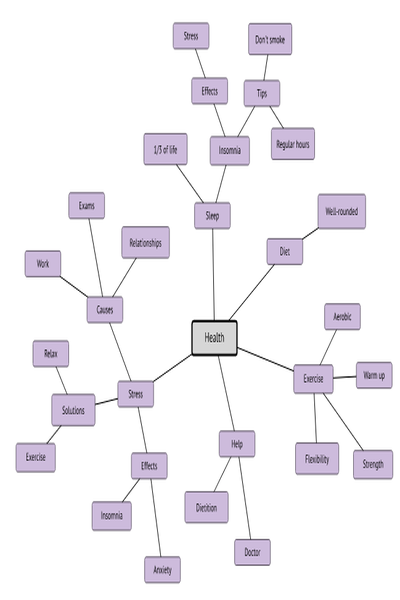arrow: (229, 264, 281, 320), (323, 392, 363, 447), (216, 355, 237, 430), (237, 344, 294, 371), (237, 455, 253, 538), (88, 219, 105, 296), (148, 477, 164, 555), (110, 323, 132, 379), (153, 355, 191, 385), (177, 163, 205, 202), (113, 258, 137, 298), (211, 456, 233, 493), (209, 228, 217, 321), (136, 406, 151, 454), (320, 329, 339, 365), (310, 392, 322, 444), (236, 106, 255, 136), (63, 278, 88, 298), (215, 165, 228, 203), (215, 104, 230, 134), (122, 479, 140, 501), (196, 48, 208, 78), (269, 106, 284, 128), (56, 367, 68, 393), (262, 55, 272, 81), (47, 425, 61, 443), (301, 228, 318, 242), (334, 371, 356, 381), (96, 398, 119, 407)
idea: (191, 319, 237, 357), (318, 193, 365, 229), (121, 226, 170, 259), (295, 442, 340, 476), (269, 126, 314, 159), (184, 490, 228, 523), (143, 133, 187, 165), (248, 23, 292, 55), (51, 393, 93, 426), (15, 442, 57, 472), (292, 363, 332, 394), (352, 449, 393, 479), (91, 501, 132, 531), (209, 135, 248, 166), (118, 379, 155, 409), (68, 191, 105, 220), (218, 430, 256, 458), (324, 303, 361, 331), (234, 538, 271, 566), (191, 77, 228, 105), (265, 238, 303, 265), (86, 296, 124, 323), (24, 250, 62, 277), (194, 201, 232, 228), (173, 21, 208, 50), (144, 556, 180, 584), (32, 339, 69, 366), (243, 79, 280, 106), (356, 362, 392, 389), (132, 452, 168, 478)
